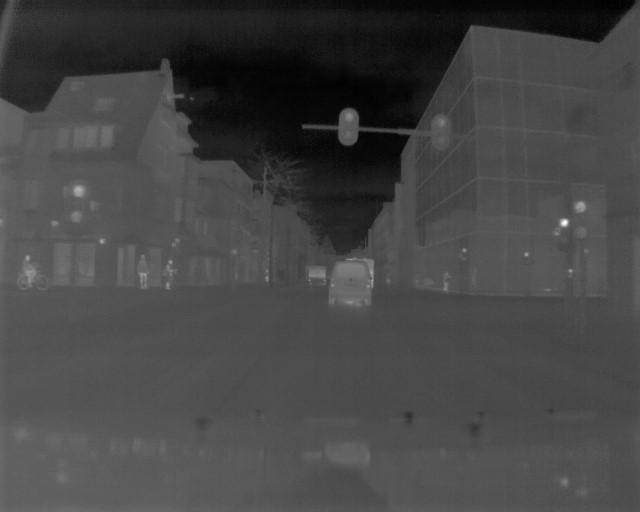car: (328, 262, 375, 309), (306, 263, 326, 290)
person: (135, 253, 153, 294), (21, 253, 39, 288), (164, 258, 178, 293)
